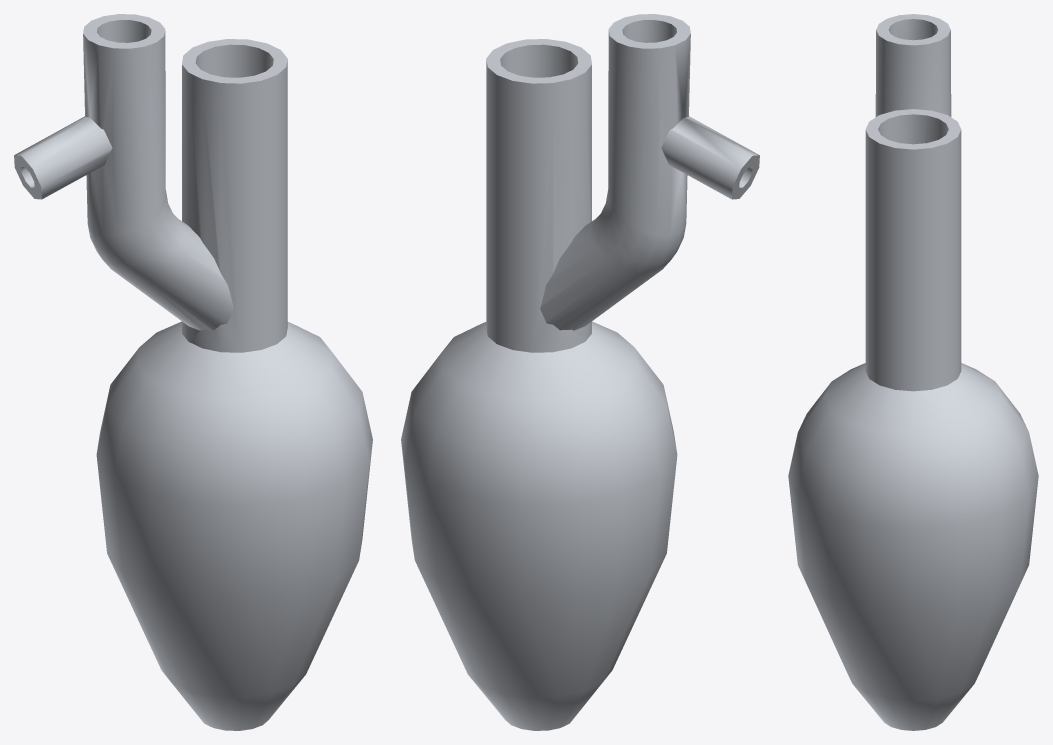
File: bottle_glassware_claisen_flask_small.glb
The picture shows the model from 3 angles, left to right: view 1: azimuth 30°, elevation 25°; view 2: azimuth 150°, elevation 25°; view 3: azimuth 270°, elevation 25°; orthographic projection. The views are drawn at different scales.
Visible parts, largest first — view 1: bottle_glassware_claisen_flask_small; view 2: bottle_glassware_claisen_flask_small; view 3: bottle_glassware_claisen_flask_small.
Boxes of the visible parts, <box> form: bottle_glassware_claisen_flask_small: <box>14,14,372,730</box>; bottle_glassware_claisen_flask_small: <box>401,14,759,730</box>; bottle_glassware_claisen_flask_small: <box>788,14,1038,730</box>.
Size of the model in its own units: 11.1 by 23.07 by 8.03.
1 material, 1 textured.
